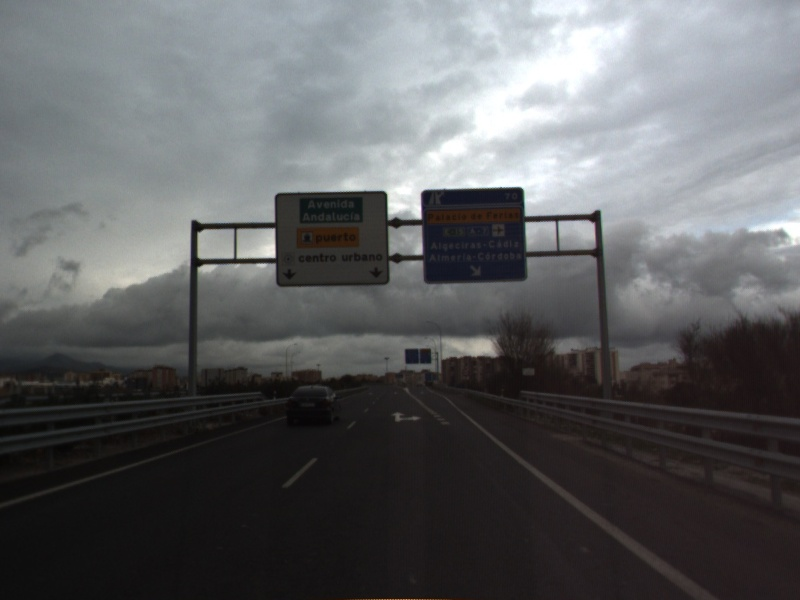STRAIGHT_RIGHT: (389, 409, 424, 424)
